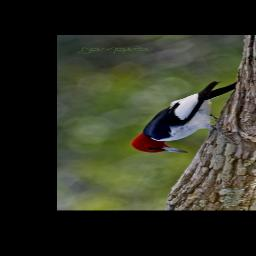Woodpecker: (127, 79, 243, 156)
